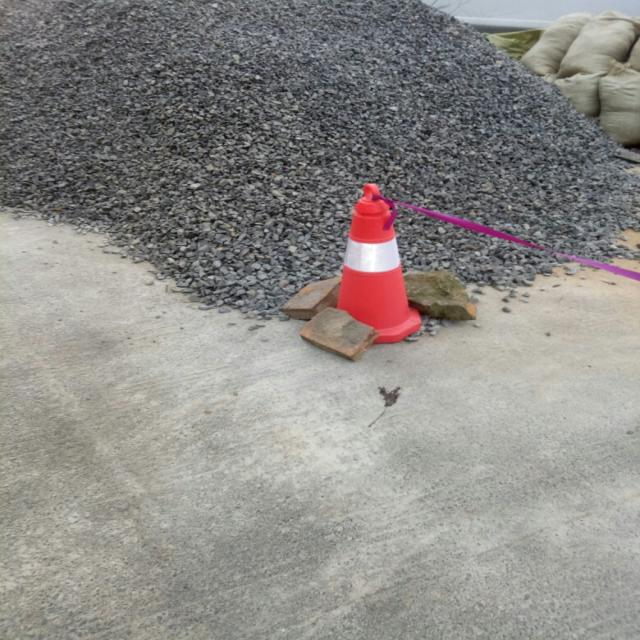reflective_cone: (339, 181, 419, 341)
